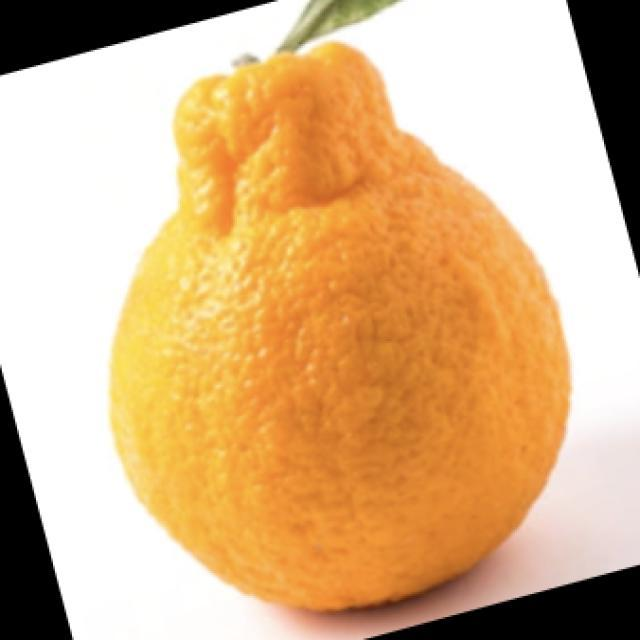matang: (112, 43, 570, 609)
